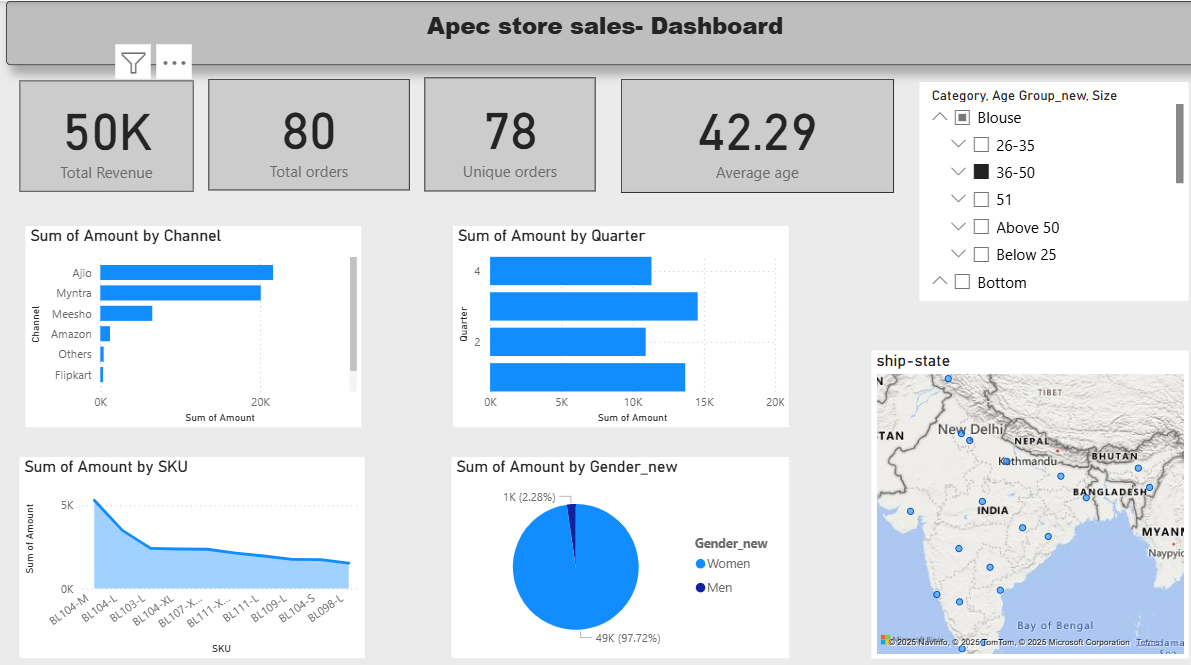

What the dashboard file says about the page in this screenshot:
{"tool":"powerbi","page":{"name":"Summary of Sales","canvas":[1280,720],"ordinal":0},"visuals":[{"type":"textbox","box":[9.7,0,1271.1,68],"z":0},{"type":"card","fields":{"Values":["metrics.Total Revenue"]},"box":[23.9,84.3,184.5,117.7],"z":1000},{"type":"card","fields":{"Values":["metrics.Total orders"]},"box":[224.3,82.7,213.1,117.7],"z":2000},{"type":"card","fields":{"Values":["metrics.Unique orders"]},"box":[453.3,81.1,181.3,120.9],"z":3000},{"type":"card","fields":{"Values":["Apec Stores.Average age"]},"box":[661.7,82.7,289.5,120.9],"z":4000},{"type":"pieChart","fields":{"Y":["Sum(Apec Stores.Amount)"],"Category":["Apec Stores.Gender_new"]},"box":[482,483.6,357.9,213.1],"z":5000},{"type":"stackedAreaChart","fields":{"Y":["Sum(Apec Stores.Amount)"],"Category":["Apec Stores.SKU"]},"box":[23.9,483.6,365.8,213.1],"z":6000},{"type":"barChart","fields":{"Y":["Sum(Apec Stores.Amount)"],"Category":["Apec Stores.Channel "]},"box":[30.2,238.6,356.3,213.1],"z":7000},{"type":"slicer","fields":{"Values":["Apec Stores.Category","Apec Stores.Age Group_new","Apec Stores.Size"]},"box":[978.2,85.9,284.7,232.2],"z":8000},{"type":"map","fields":{"Category":["Apec Stores.ship-state"]},"box":[927.3,370.6,335.6,326.1],"z":9000},{"type":"barChart","fields":{"Y":["Sum(Apec Stores.Amount)"],"Category":["Apec Stores.Quarter"]},"box":[483.6,238.6,356.3,213.1],"z":10000}]}

Visuals, with their boxes in screenshot pixels (x1, y1, x2, y2), scaled from the page's 1280x720 canvas onto the 1191x665 screenshot:
textbox: (9,0,1190,63)
card - metrics.Total Revenue: (22,78,194,187)
card - metrics.Total orders: (209,76,407,185)
card - metrics.Unique orders: (422,75,590,187)
card - Apec Stores.Average age: (616,76,885,188)
pieChart - Sum(Apec Stores.Amount) x Apec Stores.Gender_new: (448,447,782,643)
stackedAreaChart - Sum(Apec Stores.Amount) x Apec Stores.SKU: (22,447,363,643)
barChart - Sum(Apec Stores.Amount) x Apec Stores.Channel : (28,220,360,417)
slicer - Apec Stores.Category x Apec Stores.Age Group_new: (910,79,1175,294)
map - Apec Stores.ship-state: (863,342,1175,643)
barChart - Sum(Apec Stores.Amount) x Apec Stores.Quarter: (450,220,782,417)
